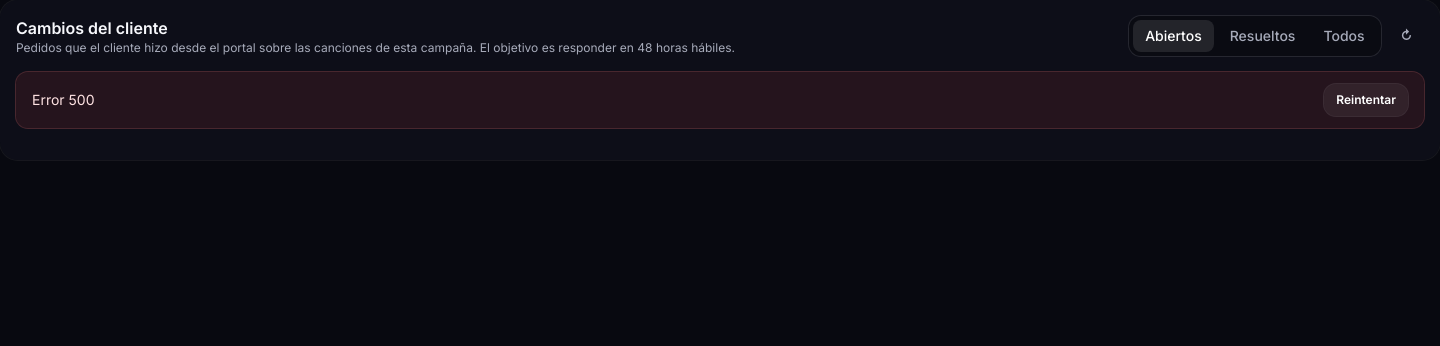
Test case: client changes inbox › explains an empty inbox and reports request errors with a retry
Expected: the text "Error 500" is shown, [32, 91, 94, 108]
Step 1. Click the button "Reintentar" → (1366, 100), box [1324, 84, 1408, 116]
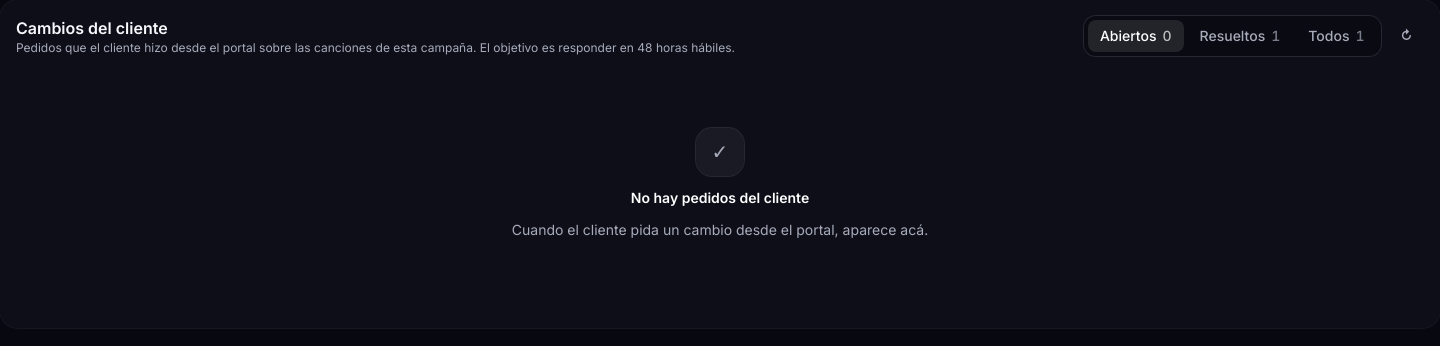
Expected: the text "No hay pedidos del cliente" is shown, [631, 188, 809, 208]
